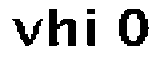0: (115, 5, 151, 50)
h: (47, 5, 78, 49)
i: (83, 6, 101, 51)
v: (11, 15, 43, 48)
